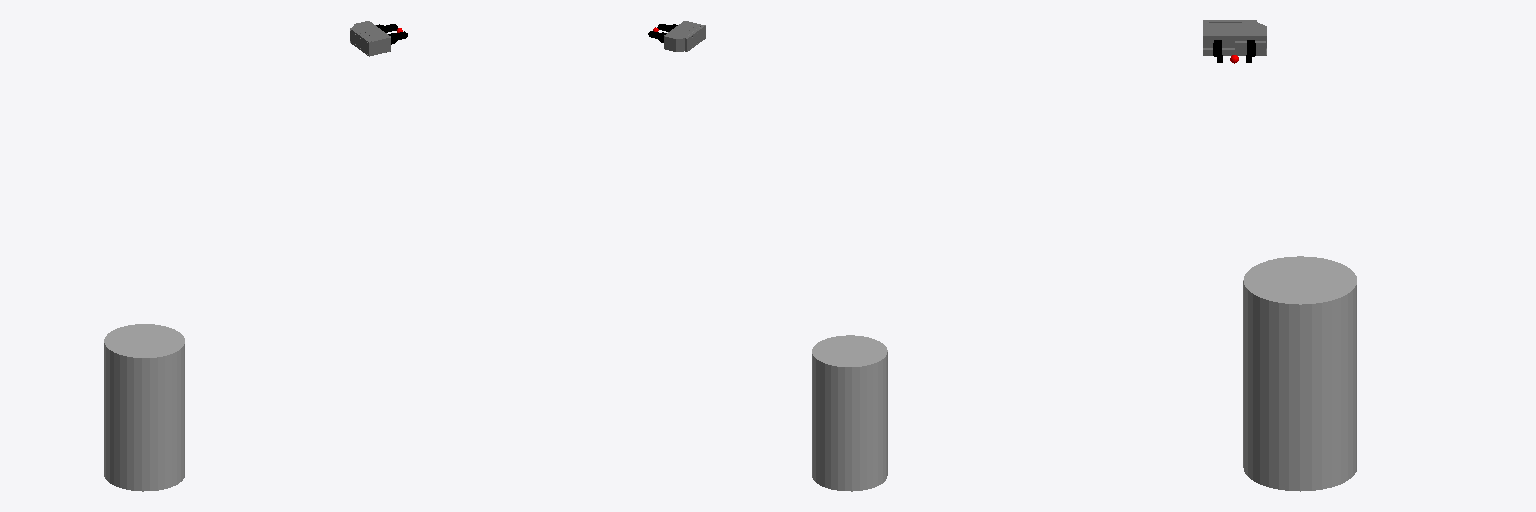
robot.urdf — crx10ia_l:
<?xml version="1.0" ?>
<!-- =================================================================================== -->
<!-- |    This document was autogenerated by xacro from /home/sam/ros2_ws/install/my_fanuc/share/my_fanuc/urdf/crx10ia_l_with_wsg50.urdf.xacro | -->
<!-- |    EDITING THIS FILE BY HAND IS NOT RECOMMENDED                                 | -->
<!-- =================================================================================== -->
<robot name="crx10ia_l">
  <!-- Add cylinder stand -->
  <link name="cylinder_stand">
    <visual>
      <origin rpy="0 0 0" xyz="0 0 0.235"/>
      <!-- Half height offset -->
      <geometry>
        <cylinder length="0.47" radius="0.13"/>
        <!-- 47cm height, 10cm diameter -->
      </geometry>
      <material name="cylinder_material">
        <color rgba="0.7 0.7 0.7 1.0"/>
        <!-- Gray color -->
      </material>
    </visual>
    <collision>
      <origin rpy="0 0 0" xyz="0 0 0.235"/>
      <geometry>
        <cylinder length="0.47" radius="0.13"/>
      </geometry>
    </collision>
    <inertial>
      <origin rpy="0 0 0" xyz="0 0 0.235"/>
      <mass value="5.0"/>
      <!-- 5 kg mass -->
      <inertia ixx="0.95" ixy="0" ixz="0" iyy="0.95" iyz="0" izz="0.0125"/>
      <!-- Cylinder inertia -->
    </inertial>
  </link>
  <!-- Joint connecting cylinder to base_link -->
  <joint name="cylinder_to_base" type="fixed">
    <parent link="cylinder_stand"/>
    <child link="base_link"/>
    <origin rpy="0 0 0" xyz="0 0 0.47"/>
    <!-- Cylinder starts at base_link -->
  </joint>
  <material name="FANUC_Black">
    <color rgba="0 0 0 1.0"/>
  </material>
  <material name="FANUC_Yellow">
    <color rgba="1.00 0.84 0.01 1.00"/>
  </material>
  <material name="FANUC_Green">
    <color rgba="0.43 0.68 0.26 1.00"/>
  </material>
  <material name="FANUC_White">
    <color rgba="0.84 0.84 0.82 1.00"/>
  </material>
  <!-- links -->
  <link name="base_link">
    <visual>
      <origin rpy="0 0 0" xyz="0 0 0"/>
      <geometry>
        <mesh filename="package://crx_description/meshes/crx10ia_l/visual/base.stl" scale="0.001 0.001 0.001"/>
      </geometry>
      <material name="FANUC_Black"/>
    </visual>
    <collision>
      <origin rpy="0 0 0" xyz="0 0 0"/>
      <geometry>
        <mesh filename="package://crx_description/meshes/crx10ia_l/collision/base.stl" scale="0.001 0.001 0.001"/>
      </geometry>
    </collision>
    <inertial>
      <origin xyz="-0.00382056 0.00206950 0.01942089"/>
      <mass value="2.76100000"/>
      <inertia ixx="0.00700659" ixy="-0.00000203" ixz="0.00008532" iyy="0.00802246" iyz="-0.00000089" izz="0.01189151"/>
    </inertial>
  </link>
  <link name="J1_link">
    <visual>
      <origin rpy="0 0 0" xyz="0 0 -0.11729999999999999"/>
      <geometry>
        <mesh filename="package://crx_description/meshes/crx10ia_l/visual/j1.stl" scale="0.001 0.001 0.001"/>
      </geometry>
      <material name="FANUC_White"/>
    </visual>
    <collision>
      <origin rpy="0 0 0" xyz="0 0 -0.11729999999999999"/>
      <geometry>
        <mesh filename="package://crx_description/meshes/crx10ia_l/collision/j1.stl" scale="0.001 0.001 0.001"/>
      </geometry>
    </collision>
    <inertial>
      <origin xyz="-0.00569797 0.00186743 0.11379122"/>
      <mass value="7.93600000"/>
      <inertia ixx="0.05299330" ixy="0.00000055" ixz="0.00000034" iyy="0.04558587" iyz="0.00347809" izz="0.03437197"/>
    </inertial>
  </link>
  <link name="J2_link">
    <visual>
      <origin rpy="0 0 0" xyz="-0.0 0 0.0"/>
      <geometry>
        <mesh filename="package://crx_description/meshes/crx10ia_l/visual/j2.stl" scale="0.001 0.001 0.001"/>
      </geometry>
      <material name="FANUC_White"/>
    </visual>
    <collision>
      <origin rpy="0 0 0" xyz="-0.0 0 0.0"/>
      <geometry>
        <mesh filename="package://crx_description/meshes/crx10ia_l/collision/j2.stl" scale="0.001 0.001 0.001"/>
      </geometry>
    </collision>
    <inertial>
      <origin xyz="0.00030878 -0.23265489 0.40597396"/>
      <mass value="17.57600000"/>
      <inertia ixx="1.03123975" ixy="0.00000783" ixz="0.00003249" iyy="1.00774475" iyz="-0.03368519" izz="0.07887079"/>
    </inertial>
  </link>
  <link name="J3_link">
    <visual>
      <origin rpy="0 0 0" xyz="-0.0 0 0.0"/>
      <geometry>
        <mesh filename="package://crx_description/meshes/crx10ia_l/visual/j3.stl" scale="0.001 0.001 0.001"/>
      </geometry>
      <material name="FANUC_White"/>
    </visual>
    <collision>
      <origin rpy="0 0 0" xyz="-0.0 0 0.0"/>
      <geometry>
        <mesh filename="package://crx_description/meshes/crx10ia_l/collision/j3.stl" scale="0.001 0.001 0.001"/>
      </geometry>
    </collision>
    <inertial>
      <origin xyz="0.02023601 0.02297838 -0.00069627"/>
      <mass value="4.10700000"/>
      <inertia ixx="0.00972653" ixy="-0.00068580" ixz="0.00000064" iyy="0.01821673" iyz="-0.00000000" izz="0.01861618"/>
    </inertial>
  </link>
  <link name="J4_link">
    <visual>
      <origin rpy="0 0 0" xyz="0.54 0 0.0"/>
      <geometry>
        <mesh filename="package://crx_description/meshes/crx10ia_l/visual/j4.stl" scale="0.001 0.001 0.001"/>
      </geometry>
      <material name="FANUC_White"/>
    </visual>
    <collision>
      <origin rpy="0 0 0" xyz="0.54 0 0.0"/>
      <geometry>
        <mesh filename="package://crx_description/meshes/crx10ia_l/collision/j4.stl" scale="0.001 0.001 0.001"/>
      </geometry>
    </collision>
    <inertial>
      <origin xyz="-0.01795465 0.00357090 0.00016217"/>
      <mass value="4.95900000"/>
      <inertia ixx="0.00826192" ixy="0.00137701" ixz="-0.00000129" iyy="0.07702783" iyz="0.00000185" izz="0.07766716"/>
    </inertial>
  </link>
  <link name="J5_link">
    <visual>
      <origin rpy="0 0 0" xyz="0.0 -0.15 0.0"/>
      <geometry>
        <mesh filename="package://crx_description/meshes/crx10ia_l/visual/j5.stl" scale="0.001 0.001 0.001"/>
      </geometry>
      <material name="FANUC_White"/>
    </visual>
    <collision>
      <origin rpy="0 0 0" xyz="0.0 -0.15 0.0"/>
      <geometry>
        <mesh filename="package://crx_description/meshes/crx10ia_l/collision/j5.stl" scale="0.001 0.001 0.001"/>
      </geometry>
    </collision>
    <inertial>
      <origin xyz="0.00186419 0.00283739 -0.00032750"/>
      <mass value="2.14100000"/>
      <inertia ixx="0.00413567" ixy="0.00039226" ixz="-0.00000017" iyy="0.00472478" iyz="0.00000006" izz="0.00588804"/>
    </inertial>
  </link>
  <link name="J6_link">
    <visual>
      <origin rpy="0 0 0" xyz="0.15999999999999992 0.0 0.0"/>
      <geometry>
        <mesh filename="package://crx_description/meshes/crx10ia_l/visual/j6.stl" scale="0.001 0.001 0.001"/>
      </geometry>
      <material name="FANUC_Black"/>
    </visual>
    <collision>
      <origin rpy="0 0 0" xyz="0.15999999999999992 0.0 0.0"/>
      <geometry>
        <mesh filename="package://crx_description/meshes/crx10ia_l/collision/j6.stl" scale="0.001 0.001 0.001"/>
      </geometry>
    </collision>
    <inertial>
      <origin xyz="-0.01611361 0.00604174 0.00031788"/>
      <mass value="0.52000000"/>
      <inertia ixx="0.00057032" ixy="0.00000069" ixz="-0.00000020" iyy="0.00038816" iyz="-0.00000004" izz="0.00045904"/>
    </inertial>
  </link>
  <!-- joints -->
  <gazebo>
    <joint name="fixed_base" type="fixed">
      <parent>world</parent>
      <child>base_link</child>
    </joint>
  </gazebo>
  <joint name="J1" type="revolute">
    <origin rpy="0 0 0" xyz="0 0 0.245"/>
    <parent link="base_link"/>
    <child link="J1_link"/>
    <axis xyz="0 0 1"/>
    <limit effort="0" lower="-3.0543261909900763" upper="3.0543261909900763" velocity="2.0943951023931953"/>
  </joint>
  <joint name="J2" type="revolute">
    <origin rpy="0 0 0" xyz="0.0 0 0"/>
    <parent link="J1_link"/>
    <child link="J2_link"/>
    <axis xyz="0 1 0"/>
    <limit effort="0" lower="-3.0543261909900763" upper="3.0543261909900763" velocity="2.0943951023931953"/>
  </joint>
  <joint name="J3" type="revolute">
    <origin rpy="0 0 0" xyz="0 0 0.71"/>
    <parent link="J2_link"/>
    <child link="J3_link"/>
    <axis xyz="0 -1 0"/>
    <limit effort="0" lower="-1.4835298641951802" upper="4.625122517784973" velocity="3.141592653589793"/>
  </joint>
  <joint name="J4" type="revolute">
    <origin rpy="0 0 0" xyz="0 0 0.0"/>
    <parent link="J3_link"/>
    <child link="J4_link"/>
    <axis xyz="-1 0 0"/>
    <limit effort="0" lower="-3.0543261909900763" upper="3.0543261909900763" velocity="3.141592653589793"/>
  </joint>
  <joint name="J5" type="revolute">
    <origin rpy="0 0 0" xyz="0.54 0 0"/>
    <parent link="J4_link"/>
    <child link="J5_link"/>
    <axis xyz="0 -1 0"/>
    <limit effort="0" lower="-3.0543261909900763" upper="3.0543261909900763" velocity="3.141592653589793"/>
  </joint>
  <joint name="J6" type="revolute">
    <origin rpy="0 0 0" xyz="0 -0.15 0"/>
    <parent link="J5_link"/>
    <child link="J6_link"/>
    <axis xyz="-1 0 0"/>
    <limit effort="0" lower="-3.839724354387525" upper="3.839724354387525" velocity="3.141592653589793"/>
  </joint>
  <!-- world coords -->
  <link name="wbase"/>
  <joint name="base_link-wbase" type="fixed">
    <origin rpy="0 0 0" xyz="0 0 0.245"/>
    <parent link="base_link"/>
    <child link="wbase"/>
  </joint>
  <!-- flange coords -->
  <link name="flange"/>
  <joint name="J6-flange" type="fixed">
    <origin rpy="0 0 0" xyz="0.16 0 0"/>
    <parent link="J6_link"/>
    <child link="flange"/>
  </joint>
  <!-- flange1 coords -->
  <link name="flange1"/>
  <joint name="flange-flange1" type="fixed">
    <origin rpy="0 1.5707963267948966 0" xyz="0 0 0"/>
    <parent link="flange"/>
    <child link="flange1"/>
  </joint>
  <!-- tcp coords -->
  <link name="tcp"/>
  <joint name="flange1-tcp" type="fixed">
    <origin rpy="0 0 0" xyz="0 0 0"/>
    <parent link="flange1"/>
    <child link="tcp"/>
  </joint>
  <!-- tcp right coord -->
  <link name="tcp_right"/>
  <joint name="tcp-tcp_right" type="fixed">
    <origin rpy="0 0 0" xyz="0 0.012 0.013"/>
    <parent link="tcp"/>
    <child link="tcp_right"/>
  </joint>
  <!-- tcp left coord -->
  <link name="tcp_left"/>
  <joint name="tcp-tcp_left" type="fixed">
    <origin rpy="0 0 0" xyz="0 -0.012 0.013"/>
    <parent link="tcp"/>
    <child link="tcp_left"/>
  </joint>
  <!-- WSG-50 Gripper Definition -->
  <!-- Gripper base link (attachment point) -->
  <link name="gripper_base">
    <inertial>
      <mass value="0.001"/>
      <origin xyz="0 0 0"/>
      <inertia ixx="0.001" ixy="0.0" ixz="0.0" iyy="0.001" iyz="0.0" izz="0.001"/>
    </inertial>
  </link>
  <!-- Connect gripper to robot flange -->
  <joint name="gripper_attachment" type="fixed">
    <origin rpy="0 0 1.5707963267948966" xyz="0 0 0"/>
    <parent link="tcp"/>
    <child link="gripper_base"/>
  </joint>
  <!-- Dummy TCP Link -->
  <link name="dummy_tcp">
    <visual>
      <geometry>
        <sphere radius="0.01"/>
        <!-- Small sphere for visualization -->
      </geometry>
      <material name="tcp_material">
        <color rgba="1.0 0.0 0.0 1.0"/>
        <!-- Red color -->
      </material>
    </visual>
  </link>
  <!-- Joint from last robot link to TCP -->
  <joint name="tcp_joint" type="fixed">
    <parent link="tcp"/>
    <!-- Replace with your actual last link name -->
    <child link="dummy_tcp"/>
    <!-- Adjust these values based on where you want the TCP -->
    <origin rpy="0 0 0" xyz="0.0 0.0 0.155"/>
    <!-- 15.5cm forward from flange -->
  </joint>
  <!-- Gripper main body -->
  <link name="gripper_body">
    <inertial>
      <mass value="1.2"/>
      <origin xyz="0 0 0"/>
      <inertia ixx="1.0" ixy="0.0" ixz="0.0" iyy="1.0" iyz="0.0" izz="1.0"/>
    </inertial>
    <visual>
      <origin rpy="0 0 0" xyz="0.0 0 0"/>
      <geometry>
        <mesh filename="package://wsg_50_simulation/meshes/WSG50_110_w_adaptor.stl" scale="1 1 1"/>
      </geometry>
      <material name="grey">
        <color rgba="0.5 0.5 0.5 1"/>
      </material>
    </visual>
    <collision>
      <origin rpy="0 0 0" xyz="0.0 0 0"/>
      <geometry>
        <mesh filename="package://wsg_50_simulation/meshes/WSG50_110_w_adaptor.stl" scale="1 1 1"/>
      </geometry>
    </collision>
  </link>
  <joint name="base_to_gripper_body" type="fixed">
    <origin rpy="0 0 0" xyz="0 0 0.01"/>
    <parent link="gripper_base"/>
    <child link="gripper_body"/>
  </joint>
  <!-- Left gripper finger -->
  <joint name="base_joint_gripper_left" type="prismatic">
    <limit effort="1.0" lower="-0.055" upper="-0.0027" velocity="1.0"/>
    <origin rpy="0 0 0" xyz="0 0 0"/>
    <parent link="gripper_body"/>
    <child link="gripper_left"/>
    <dynamics damping="100" friction="100"/>
    <axis xyz="1 0 0"/>
    <limit effort="100" velocity="100"/>
    <mimic joint="base_joint_gripper_right" multiplier="-1" offset="0"/>
  </joint>
  <link name="gripper_left">
    <inertial>
      <mass value="0.1"/>
      <origin xyz="0 0 0"/>
      <inertia ixx="1.0" ixy="0.0" ixz="0.0" iyy="1.0" iyz="0.0" izz="1.0"/>
    </inertial>
    <visual>
      <origin rpy="0 0 0" xyz="0.0 0 0"/>
      <geometry>
        <mesh filename="package://wsg_50_simulation/meshes/GUIDE_WSG50_110.stl" scale="0.001 0.001 0.001"/>
      </geometry>
      <material name="black">
        <color rgba="0 0 0 1"/>
      </material>
    </visual>
    <collision>
      <origin rpy="0 0 0" xyz="0 0 0"/>
      <geometry>
        <mesh filename="package://wsg_50_simulation/meshes/GUIDE_WSG50_110.stl" scale="0.001 0.001 0.001"/>
      </geometry>
    </collision>
  </link>
  <!-- Left finger tip -->
  <joint name="guide_joint_finger_left" type="fixed">
    <origin rpy="0 0 0" xyz="0 0 0.023"/>
    <parent link="gripper_left"/>
    <child link="finger_left"/>
  </joint>
  <link name="finger_left">
    <inertial>
      <mass value="0.1"/>
      <origin xyz="0 0 0"/>
      <inertia ixx="1.0" ixy="0.0" ixz="0.0" iyy="1.0" iyz="0.0" izz="1.0"/>
    </inertial>
    <visual>
      <origin rpy="0 0 0" xyz="0.0 0 0"/>
      <geometry>
        <mesh filename="package://wsg_50_simulation/meshes/WSG-FMF.stl" scale="0.001 0.001 0.001"/>
      </geometry>
      <material name="black">
        <color rgba="0 0 0 1"/>
      </material>
    </visual>
    <collision>
      <origin rpy="0 0 0" xyz="0 0 0"/>
      <geometry>
        <mesh filename="package://wsg_50_simulation/meshes/WSG-FMF.stl" scale="0.001 0.001 0.001"/>
      </geometry>
    </collision>
  </link>
  <!-- Right gripper finger -->
  <joint name="base_joint_gripper_right" type="prismatic">
    <limit effort="1.0" lower="0.0027" upper="0.055" velocity="1.0"/>
    <origin rpy="0 0 3.14159" xyz="0 0 0"/>
    <parent link="gripper_body"/>
    <child link="gripper_right"/>
    <axis xyz="-1 0 0"/>
    <dynamics damping="100" friction="100"/>
    <limit effort="100" velocity="100"/>
  </joint>
  <link name="gripper_right">
    <inertial>
      <mass value="0.1"/>
      <origin xyz="0 0 0"/>
      <inertia ixx="1.0" ixy="0.0" ixz="0.0" iyy="1.0" iyz="0.0" izz="1.0"/>
    </inertial>
    <visual>
      <origin rpy="0 0 0" xyz="0.0 0 0"/>
      <geometry>
        <mesh filename="package://wsg_50_simulation/meshes/GUIDE_WSG50_110.stl" scale="0.001 0.001 0.001"/>
      </geometry>
      <material name="black">
        <color rgba="0 0 0 1"/>
      </material>
    </visual>
    <collision>
      <origin rpy="0 0 0" xyz="0 0 0"/>
      <geometry>
        <mesh filename="package://wsg_50_simulation/meshes/GUIDE_WSG50_110.stl" scale="0.001 0.001 0.001"/>
      </geometry>
    </collision>
  </link>
  <!-- Right finger tip -->
  <joint name="guide_joint_finger_right" type="fixed">
    <origin rpy="0 0 0" xyz="0 0 0.023"/>
    <parent link="gripper_right"/>
    <child link="finger_right"/>
  </joint>
  <link name="finger_right">
    <inertial>
      <mass value="0.1"/>
      <origin xyz="0 0 0"/>
      <inertia ixx="1.0" ixy="0.0" ixz="0.0" iyy="1.0" iyz="0.0" izz="1.0"/>
    </inertial>
    <visual>
      <origin rpy="0 0 0" xyz="0.0 0 0"/>
      <geometry>
        <mesh filename="package://wsg_50_simulation/meshes/WSG-FMF.stl" scale="0.001 0.001 0.001"/>
      </geometry>
      <material name="black">
        <color rgba="0 0 0 1"/>
      </material>
    </visual>
    <collision>
      <origin rpy="0 0 0" xyz="0 0 0"/>
      <geometry>
        <mesh filename="package://wsg_50_simulation/meshes/WSG-FMF.stl" scale="0.001 0.001 0.001"/>
      </geometry>
    </collision>
  </link>
</robot>

--- Render facts (derived) ---
3 views of the same robot in one strip: view 1: azimuth 30°, elevation 25°; view 2: azimuth 150°, elevation 25°; view 3: azimuth 270°, elevation 25° (orthographic).
Model crx10ia_l with 21 links and 20 joints (6 revolute, 2 prismatic, 12 fixed), rooted at cylinder_stand, posed joints at zero except 2 at the middle of their limits (base_joint_gripper_left = -0.0289, base_joint_gripper_right = 0.0289).
Links seen in each view (by area): view 1: cylinder_stand, gripper_body; view 2: cylinder_stand, gripper_body; view 3: cylinder_stand, gripper_body.
Link boxes in pixels (box(x1,y1,x2,y2)): cylinder_stand: box(104, 324, 184, 491); gripper_body: box(350, 21, 390, 56); cylinder_stand: box(812, 335, 887, 491); gripper_body: box(664, 21, 705, 51); cylinder_stand: box(1243, 256, 1356, 491); gripper_body: box(1203, 20, 1266, 55).
Bounding box of the posed robot: 0.995 × 0.353 × 1.45 m (x, y, z).
5 mesh visuals loaded from 10 distinct referenced files (3 binary STL); not drawn: 7 (reference not matched to a file when rendering).
